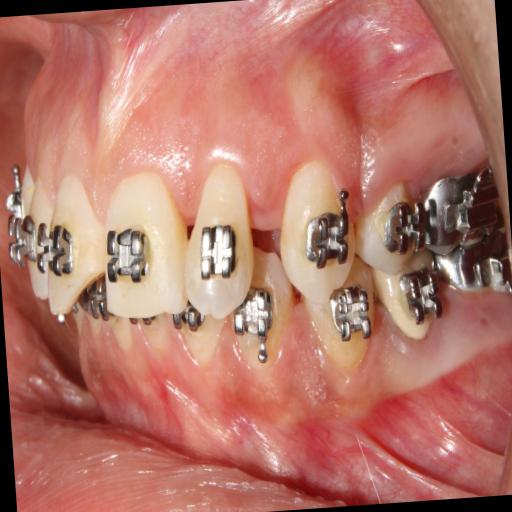correct_brace: (356, 180, 422, 269), (104, 221, 156, 299), (304, 199, 354, 272), (194, 213, 240, 286)
incorrect_brace: (176, 156, 259, 318), (382, 195, 425, 260)
